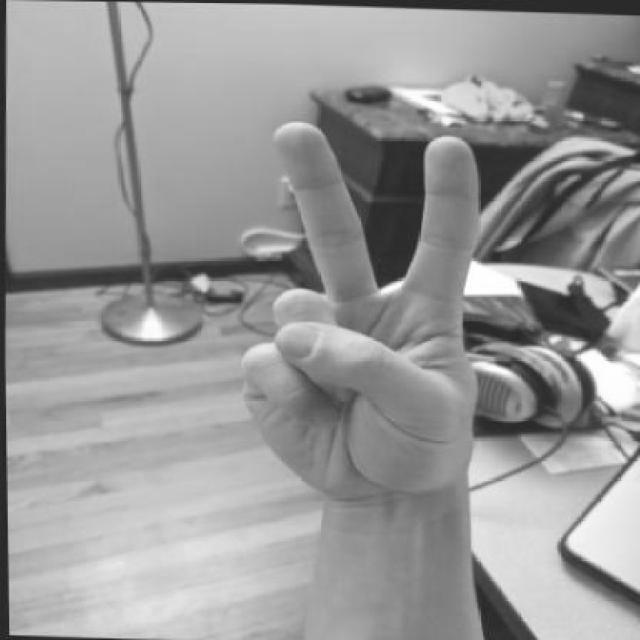V: (224, 114, 496, 509)
